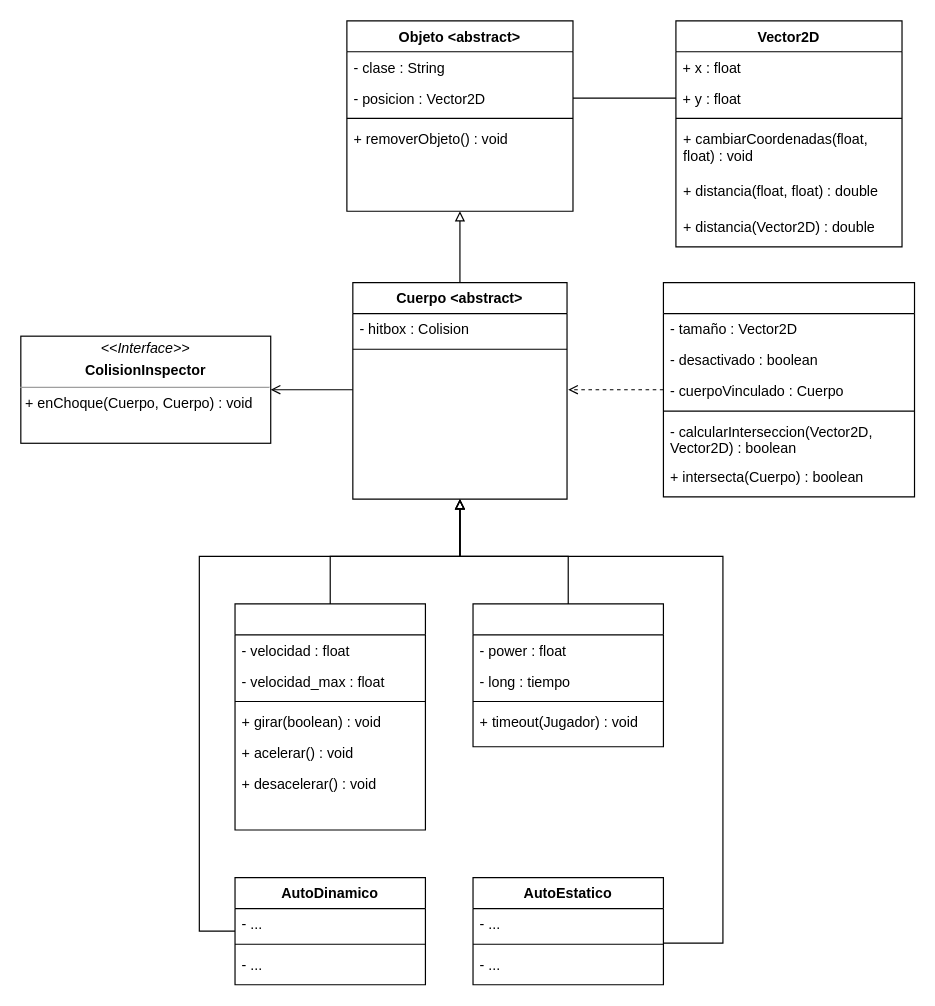
This 935x1006 diagram has some shape labels left out. Here are the shapes that lost their labels. From the top down, the box of each, then its label:
(662, 281, 915, 497): Colision
(472, 603, 663, 747): PowerUp
(234, 603, 425, 830): AutoJugador
